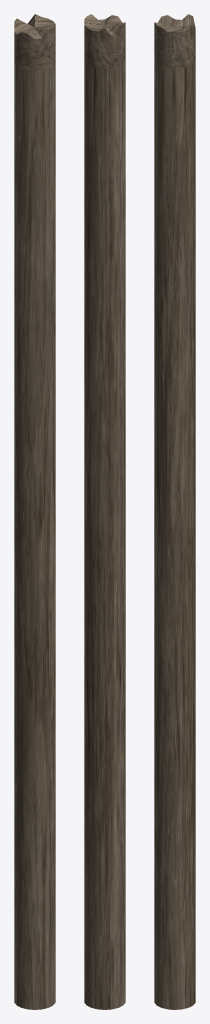
The model's file is mat_brise_01.FBX.
3 views of the same model, side by side, from view 1: azimuth 30°, elevation 25°; view 2: azimuth 210°, elevation 25°; view 3: azimuth 270°, elevation 25° (orthographic).
Visible parts, largest first — view 1: mat; view 2: mat; view 3: mat.
Part boxes in pixels (x1,y1,x2,y2): mat: (14,14,55,1009); mat: (84,14,125,1009); mat: (154,14,195,1009).
Bounding box in the file's own units: 18.86 × 18.58 × 487.
